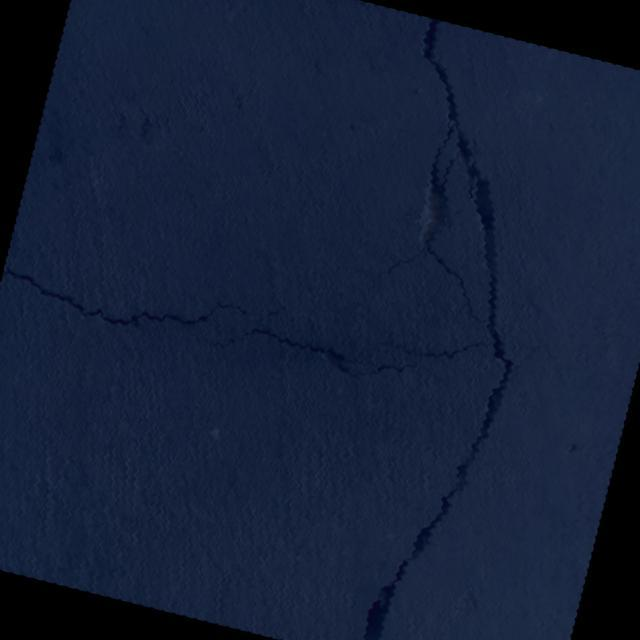crack: (138, 0, 591, 640), (0, 248, 249, 357)
